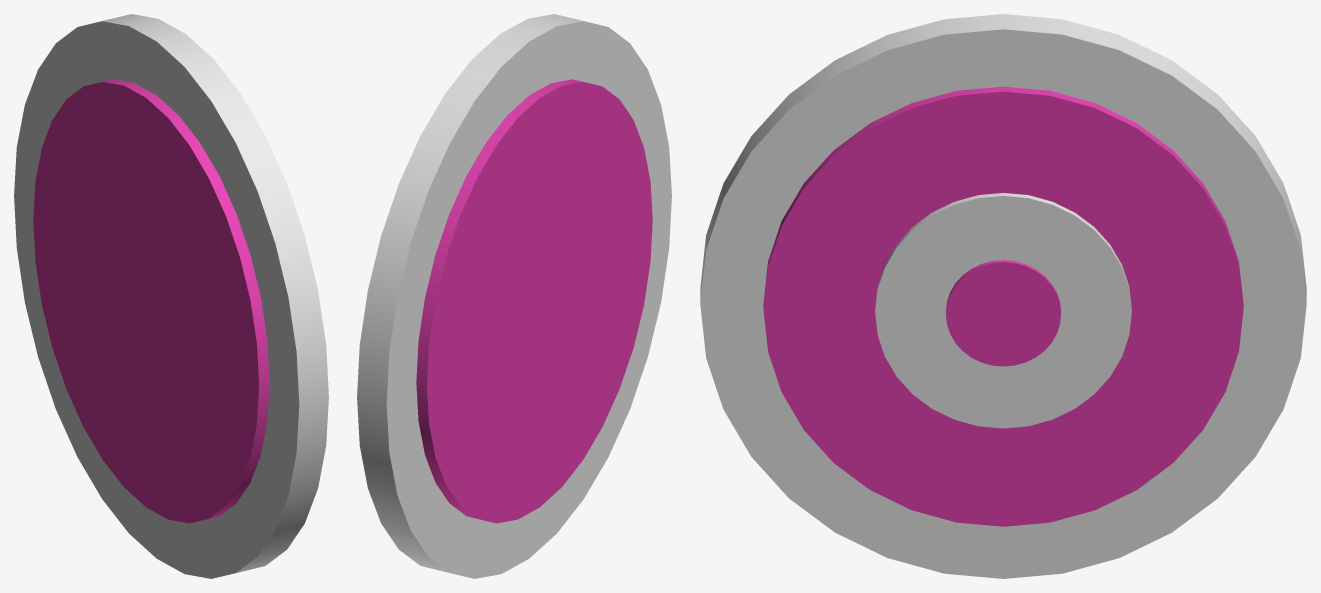
The model's file is dart boardd.fbx.
3 renders of one model, left to right at view 1: azimuth 30°, elevation 25°; view 2: azimuth 150°, elevation 25°; view 3: azimuth 270°, elevation 25°, orthographic. The views are drawn at different scales.
Visible parts, largest first — view 1: DartBoard; view 2: DartBoard; view 3: DartBoard.
Boxes of the visible parts, x1,y1,x2,y2 form: DartBoard: (14, 14, 328, 578); DartBoard: (357, 14, 671, 578); DartBoard: (700, 14, 1306, 578).
Size of the model in its own units: 55.68 by 461 by 461.
